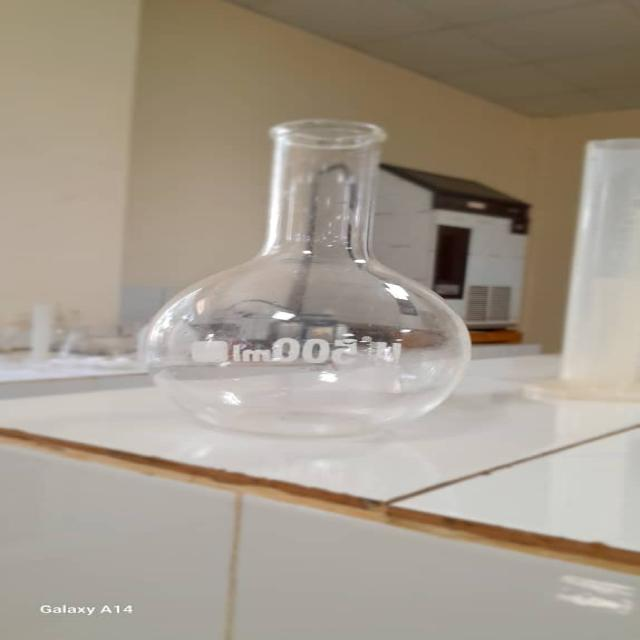Round Bottom Flask: (126, 117, 496, 439)
